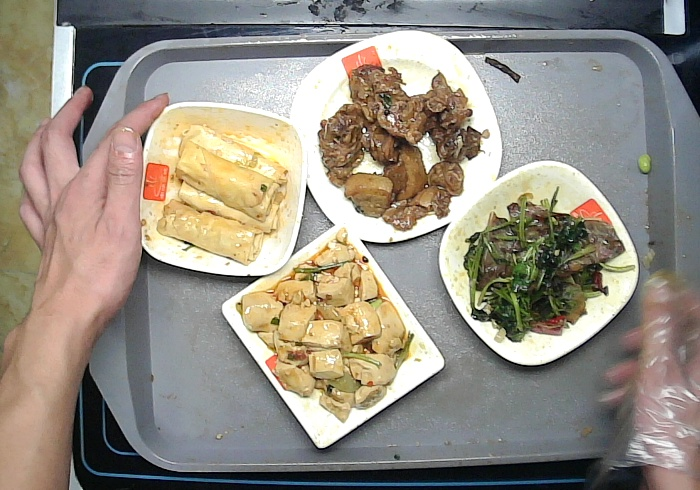SHKJ-Bai_Se_Cai_Die: (435, 160, 641, 368)
SHKJ-Bai_Se_Si_Fang_Cai_Die: (287, 29, 504, 246)
SHKJ-Bai_Se_Xiao_Fang_Die: (136, 102, 306, 277)
SHKJ-Si_Fang_Min: (220, 225, 447, 450)
